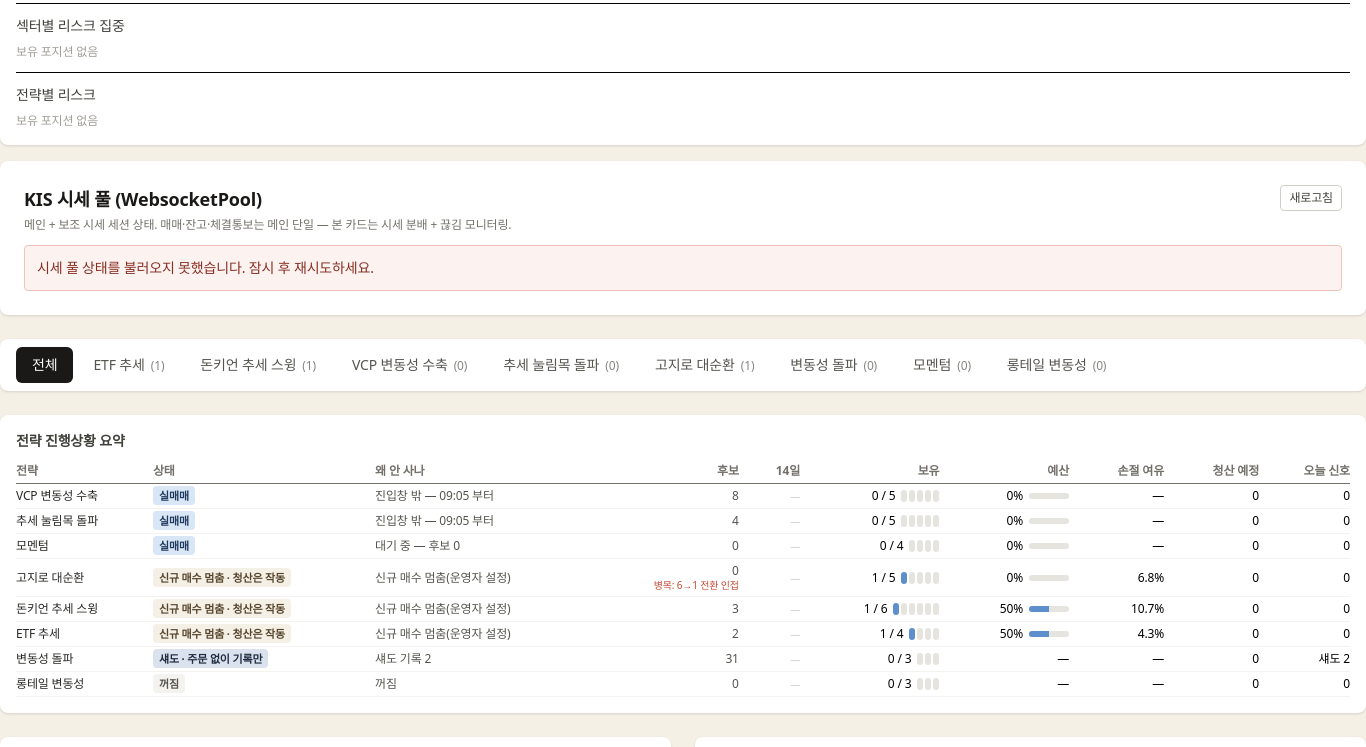
Scenario: M10 — 전략 탭에서 깔때기·후보·신호는 한 번만, 모순 문구 0 › VB·모멘텀 탭 — 깔때기 1
(page scrolled)
Click the button "변동성 돌파(0)" at [834, 365], box [774,347,893,383]
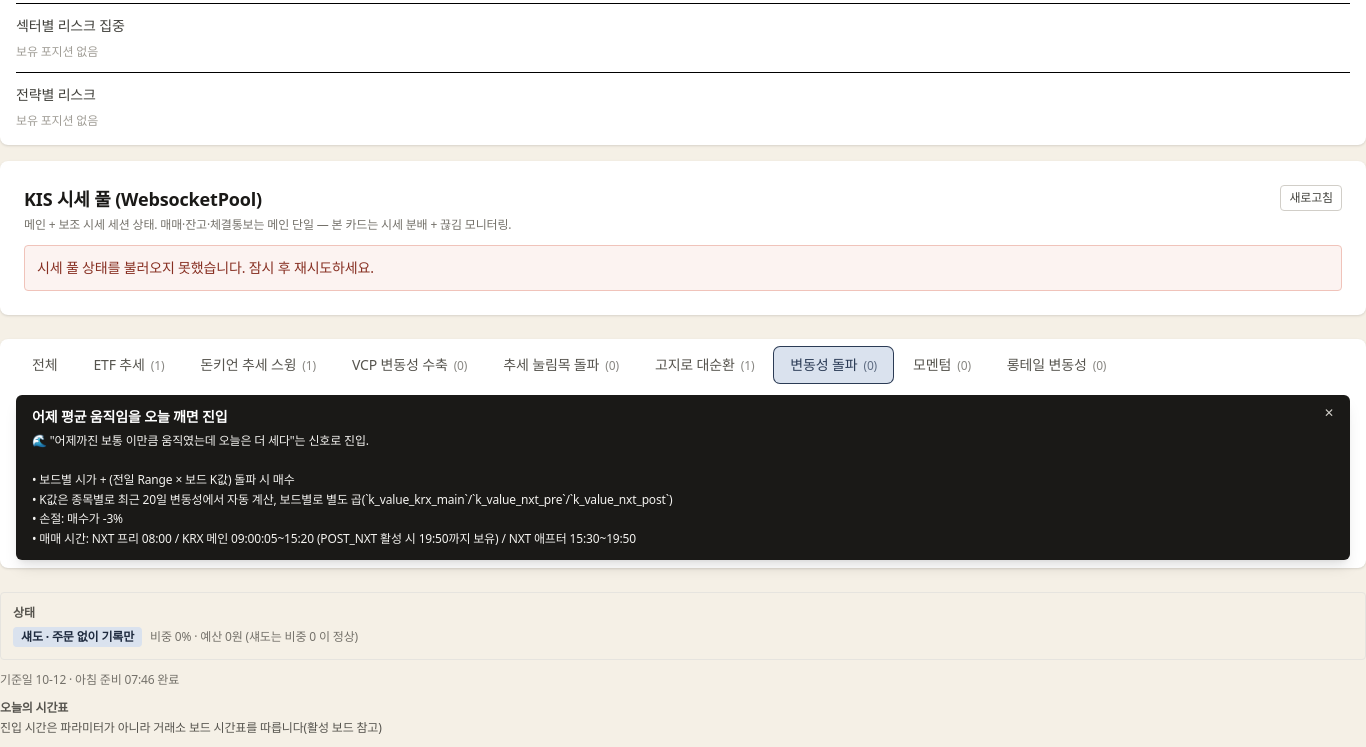
Click the button "모멘텀(0)" at [942, 365], box [897,347,987,383]
(page scrolled)
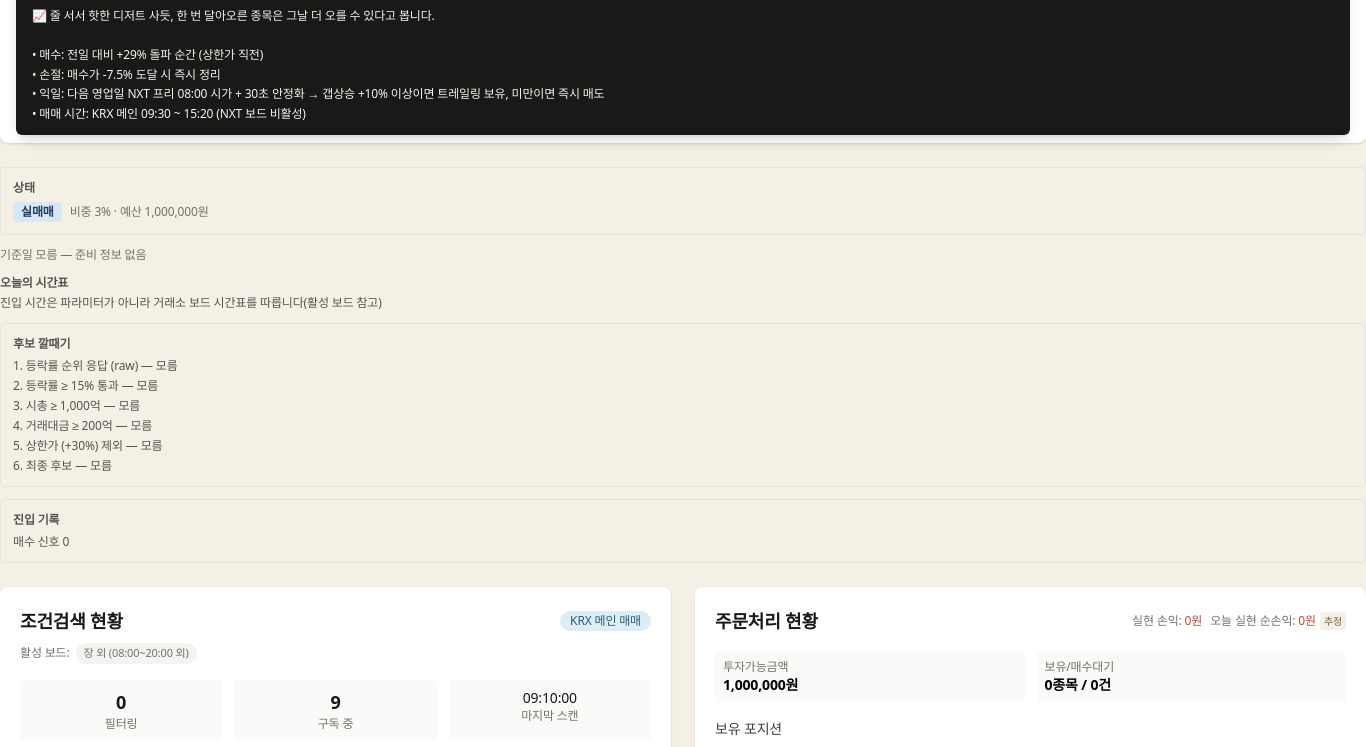
Expected: the element with test id "momentum-monitor" is shown, [0,167,1365,563]
